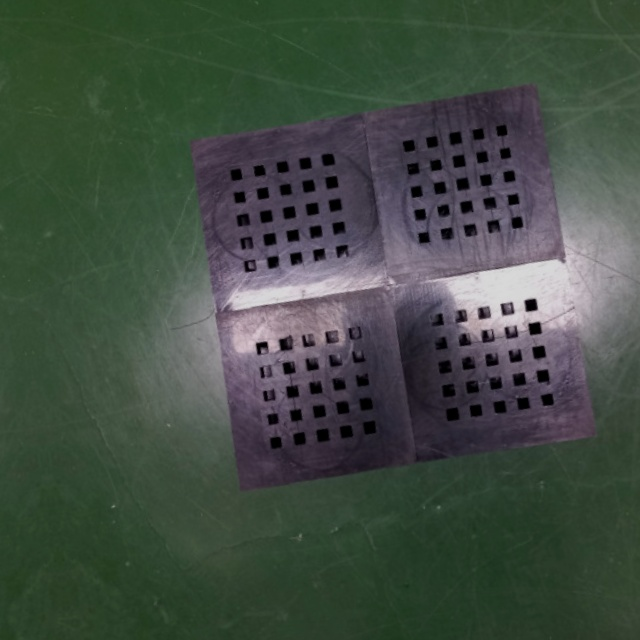pallet: (172, 75, 606, 501)
